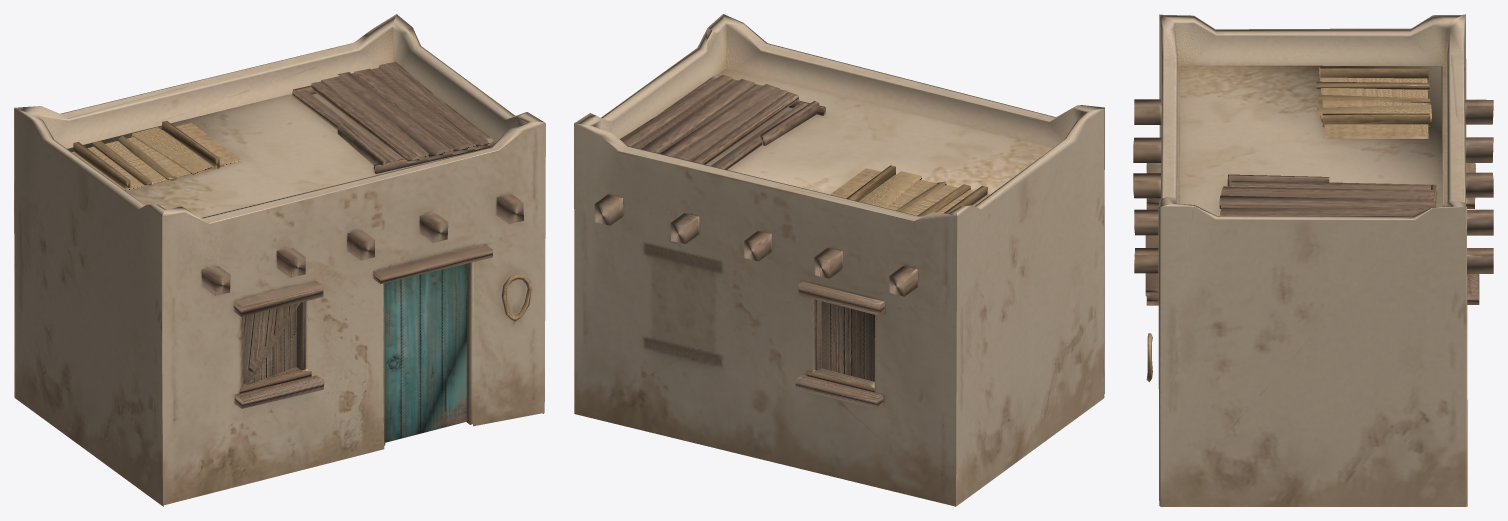
The model's file is DesertHouse1.fbx.
3 views of the same model, side by side, from view 1: azimuth 30°, elevation 25°; view 2: azimuth 150°, elevation 25°; view 3: azimuth 270°, elevation 25° (orthographic). The views are drawn at different scales.
Parts seen in each view (by area): view 1: Mesh_0; view 2: Mesh_0; view 3: Mesh_0.
Boxes of the visible parts, x1,y1,x2,y2 form: Mesh_0: [14, 14, 545, 506]; Mesh_0: [574, 14, 1104, 506]; Mesh_0: [1133, 14, 1493, 506].
Size of the model in its own units: 100 by 72.66 by 78.91.
1 material, 1 textured.
